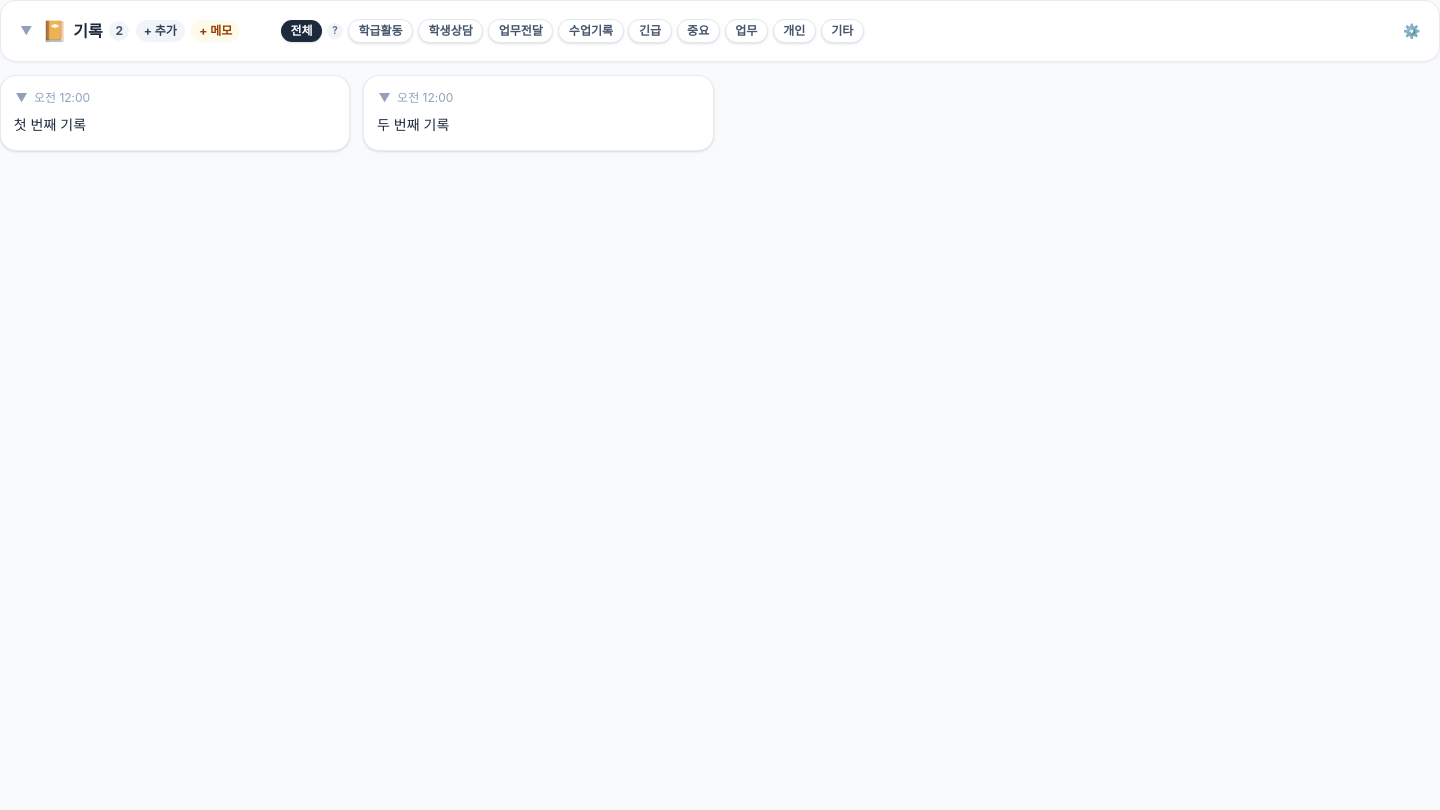
Test case: DayJournal - 기록 추가/수정 배너 › 카드를 한 번 클릭하면 그 기록의 수정 배너가 열린다
The width and height of the screenshot is (1440, 810).
Click the text "첫 번째 기록": (50, 125) [14,116,86,133]
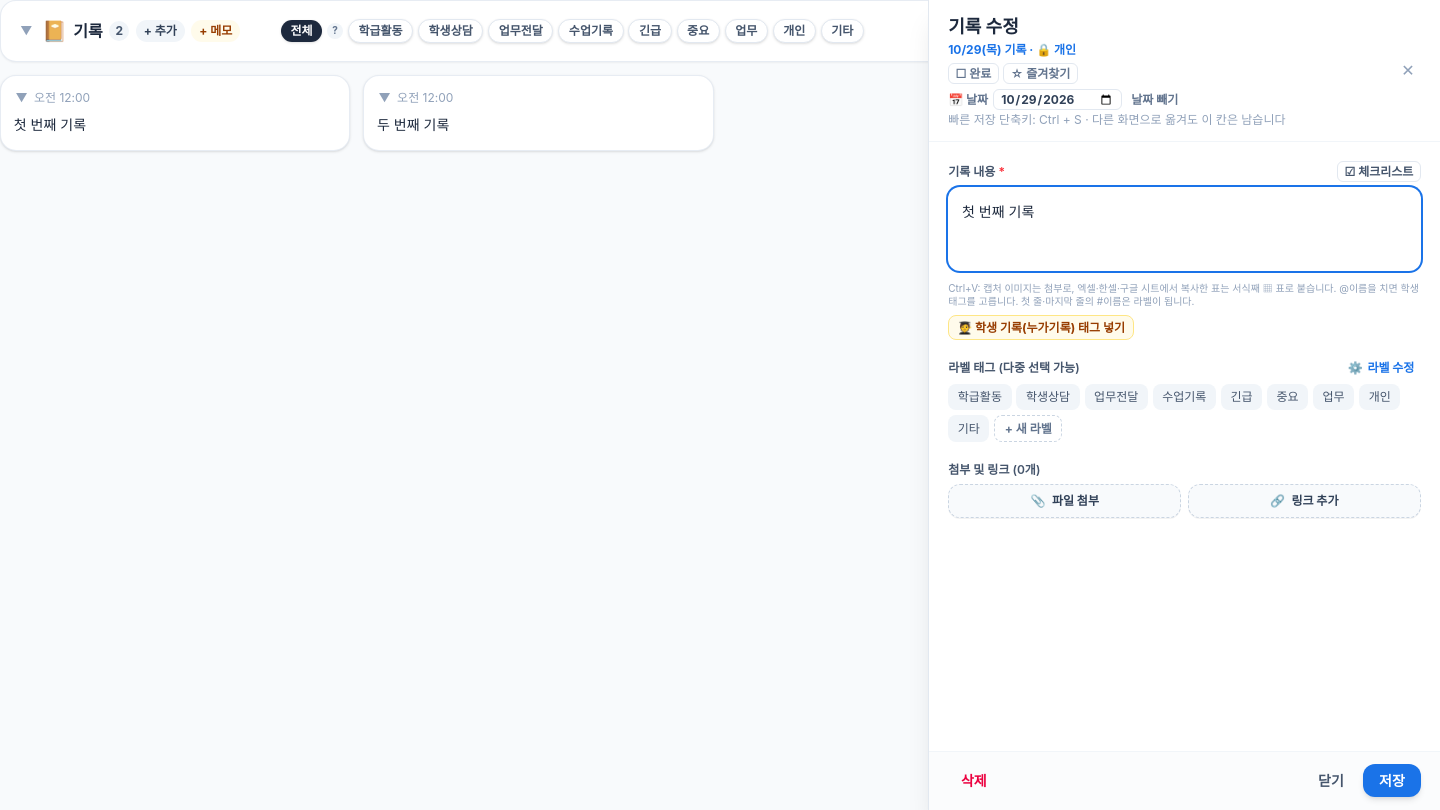
Now the heading "기록 수정" is shown, box [948,16,1019,37]
Now the text box showing "첫 번째 기록" is shown, box [948,187,1421,271]
